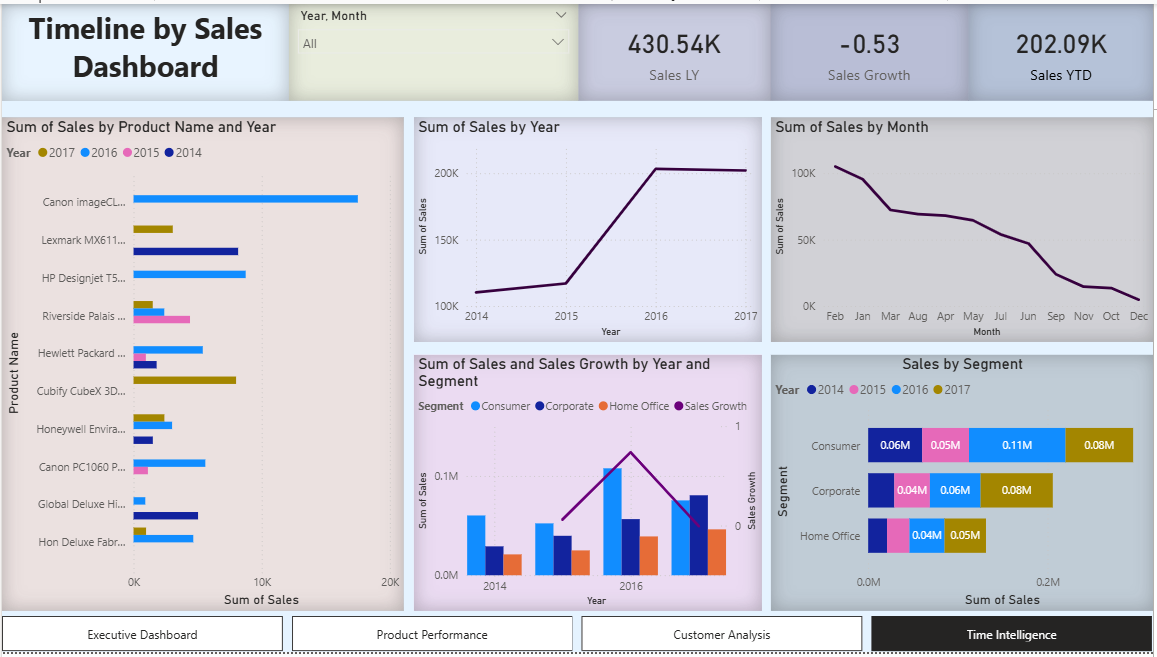

What the dashboard file says about the page in this screenshot:
{"tool":"powerbi","page":{"name":"Time Intelligence","canvas":[1280,720],"ordinal":3},"visuals":[{"type":"pageNavigator","box":[0,680,1280.7,39.7],"z":0},{"type":"card","fields":{"Values":["DateTable.Sales YTD"]},"box":[1073.8,0,206.8,107.7],"z":1000},{"type":"card","fields":{"Values":["DateTable.Sales LY"]},"box":[640.3,0,213.9,107.7],"z":2000},{"type":"card","fields":{"Values":["DateTable.Sales Growth"]},"box":[854.3,0,219.6,107.7],"z":3000},{"type":"lineChart","fields":{"Y":["Sum(Sample - Superstore.Sales)"],"Category":["DateTable.Year"]},"box":[457.6,126.1,386.8,249.3],"z":4000},{"type":"lineClusteredColumnComboChart","fields":{"Category":["DateTable.Year"],"Y":["Sum(Sample - Superstore.Sales)"],"Y2":["DateTable.Sales Growth"],"Series":["Sample - Superstore.Segment"]},"box":[457.6,389.6,386.8,284.8],"z":5000},{"type":"slicer","fields":{"Values":["DateTable.Year","DateTable.Month"]},"box":[318.8,0,321.6,107.7],"z":6000},{"type":"lineChart","fields":{"Category":["DateTable.Month"],"Y":["Sum(Sample - Superstore.Sales)"]},"box":[854.3,126.1,426.4,249.3],"z":7000},{"type":"barChart","title":"Sales by Segment ","fields":{"Category":["Sample - Superstore.Segment"],"Y":["Sum(Sample - Superstore.Sales)"],"Series":["DateTable.Year"]},"box":[854.3,389.6,426.4,284.8],"z":8000},{"type":"clusteredBarChart","fields":{"Category":["Sample - Superstore.Product Name"],"Y":["Sum(Sample - Superstore.Sales)"],"Series":["DateTable.Year"]},"box":[0,126.1,446.3,548.3],"z":9000},{"type":"textbox","box":[0,0,318.8,107.7],"z":10000}]}

Visuals, with their boxes in screenshot pixels (x1, y1, x2, y2), scaled from the page's 1280x720 canvas onto the 1157x657 screenshot:
pageNavigator: <box>0,620,1156,656</box>
card - DateTable.Sales YTD: <box>971,0,1156,98</box>
card - DateTable.Sales LY: <box>579,0,772,98</box>
card - DateTable.Sales Growth: <box>772,0,971,98</box>
lineChart - Sum(Sample - Superstore.Sales) x DateTable.Year: <box>414,115,763,343</box>
lineClusteredColumnComboChart - DateTable.Year x Sum(Sample - Superstore.Sales): <box>414,356,763,615</box>
slicer - DateTable.Year x DateTable.Month: <box>288,0,579,98</box>
lineChart - DateTable.Month x Sum(Sample - Superstore.Sales): <box>772,115,1156,343</box>
"Sales by Segment " barChart: <box>772,356,1156,615</box>
clusteredBarChart - Sample - Superstore.Product Name x Sum(Sample - Superstore.Sales): <box>0,115,403,615</box>
textbox: <box>0,0,288,98</box>
